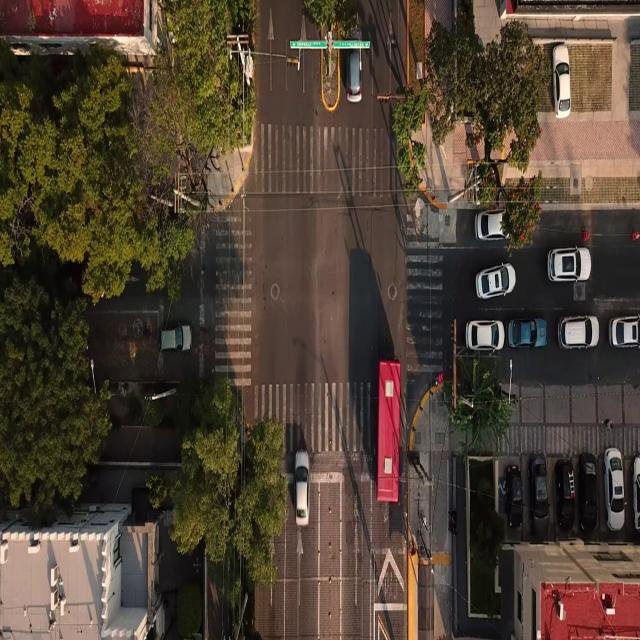car: (604, 448, 624, 530), (529, 456, 548, 540), (554, 458, 576, 530), (476, 263, 516, 299), (548, 248, 591, 281), (579, 453, 597, 530), (552, 44, 570, 118), (558, 316, 598, 349), (466, 320, 504, 351), (507, 319, 547, 348), (294, 450, 309, 526), (505, 465, 522, 527), (609, 316, 640, 348), (476, 209, 506, 240), (159, 325, 193, 351), (347, 49, 361, 102), (633, 456, 639, 531)
